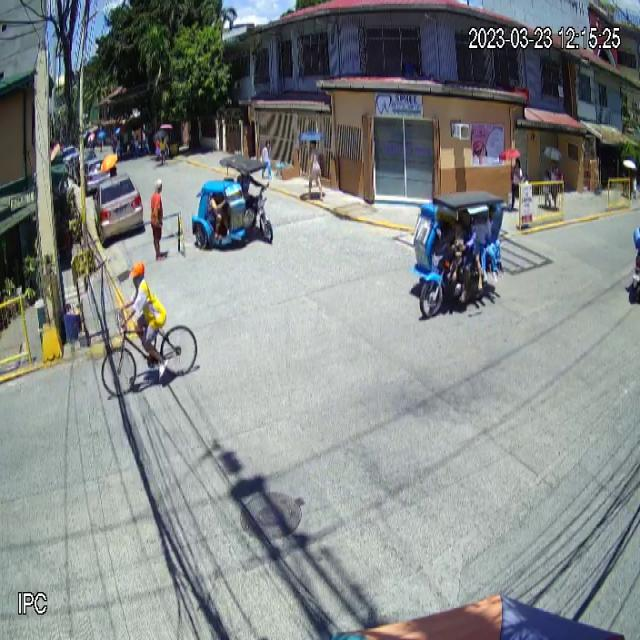Car: (93, 173, 143, 245)
Tricycle: (410, 192, 504, 316), (192, 154, 273, 251)
